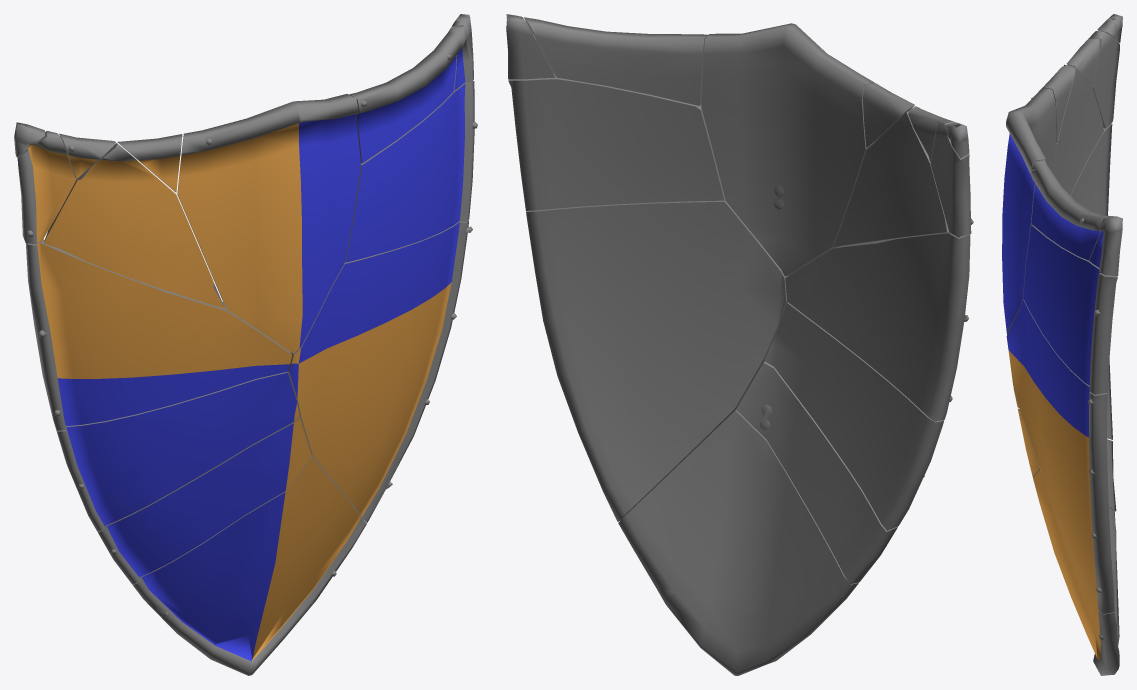
Rendered from Broken Shield.fbx.
The picture shows the model from 3 angles, left to right: view 1: azimuth 30°, elevation 25°; view 2: azimuth 150°, elevation 25°; view 3: azimuth 270°, elevation 25°; orthographic projection. The views are drawn at different scales.
Parts seen in each view (by area): view 1: Shield_cell.013, Shield_cell.006, Shield_cell.005, Shield_cell.003, Shield_cell.004, Shield_cell.014, Shield_cell.001, Shield_cell.011, Shield_cell.010, Shield_cell.012, Shield_cell.007, Shield_cell (+1 smaller); view 2: Shield_cell.006, Shield_cell.003, Shield_cell.013, Shield_cell.001, Shield_cell.005, Shield_cell.004, Shield_cell.011, Shield_cell.010, Shield_cell.014, Shield_cell.012, Shield_cell.008, Shield_cell.007 (+1 smaller); view 3: Shield_cell.006, Shield_cell.001, Shield_cell.013, Shield_cell.003, Shield_cell.010, Shield_cell.014, Shield_cell.005, Shield_cell.012, Shield_cell.008, Shield_cell.007, Shield_cell, Shield_cell.011 (+2 smaller).
Part boxes in pixels (x1,y1,x2,y2): Shield_cell.013: (177,94,360,353); Shield_cell.006: (287,220,472,522); Shield_cell.005: (26,239,292,430); Shield_cell.003: (132,457,366,675); Shield_cell.004: (55,372,299,531); Shield_cell.014: (43,143,224,308); Shield_cell.001: (345,81,474,262); Shield_cell.011: (98,417,311,584); Shield_cell.010: (349,27,464,163); Shield_cell.012: (15,131,76,244); Shield_cell.007: (117,134,182,192); Shield_cell: (59,133,116,178); Shield_cell.006: (526,199,787,521); Shield_cell.003: (618,410,858,675); Shield_cell.013: (701,23,877,276); Shield_cell.001: (508,73,725,210); Shield_cell.005: (785,232,970,421); Shield_cell.004: (764,302,943,530); Shield_cell.011: (736,361,897,583); Shield_cell.010: (524,17,708,105); Shield_cell.014: (833,106,948,246); Shield_cell.012: (930,119,971,237); Shield_cell.008: (506,14,554,79); Shield_cell.007: (862,83,914,147); Shield_cell.006: (1006,299,1114,614); Shield_cell.001: (1023,225,1117,394); Shield_cell.013: (1002,87,1056,334); Shield_cell.003: (1033,469,1119,675); Shield_cell.010: (1030,160,1110,260); Shield_cell.014: (1053,64,1103,195); Shield_cell.005: (1070,123,1112,215); Shield_cell.012: (1088,31,1119,128); Shield_cell.008: (1089,216,1122,276); Shield_cell.007: (1043,66,1075,142); Shield_cell: (1066,38,1099,86); Shield_cell.011: (1018,408,1116,511).
Size of the model in its own units: 75.75 by 96.14 by 18.68.
